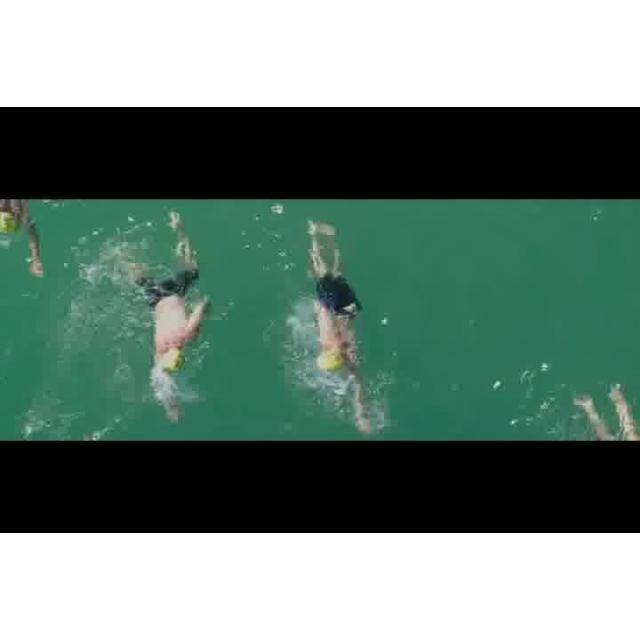human: (126, 224, 206, 426), (302, 222, 374, 436), (568, 381, 640, 442)
